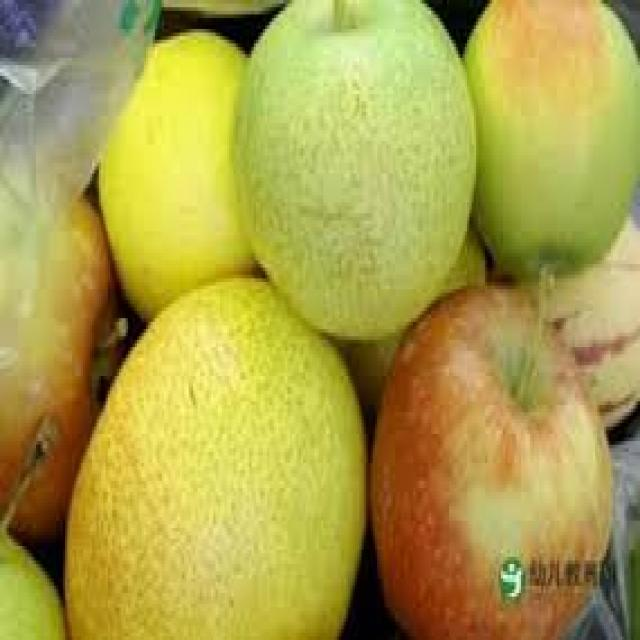organic waste: (60, 275, 364, 636), (366, 275, 609, 636), (231, 0, 476, 336), (95, 25, 268, 318), (460, 0, 637, 278), (0, 188, 128, 550), (483, 202, 638, 430), (335, 217, 487, 423), (0, 514, 61, 636)
